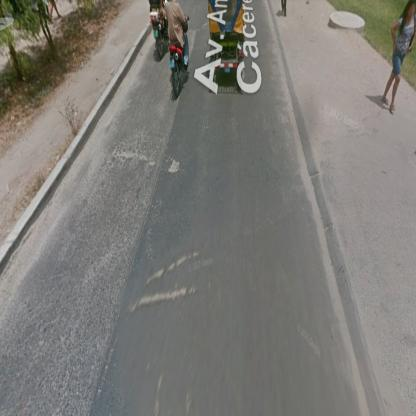Obstaculo: (2, 95, 179, 415), (130, 290, 187, 315), (113, 149, 156, 167), (178, 251, 200, 267), (148, 271, 164, 283), (170, 159, 181, 174), (167, 264, 175, 273)
Peaton: (382, 2, 416, 112)
